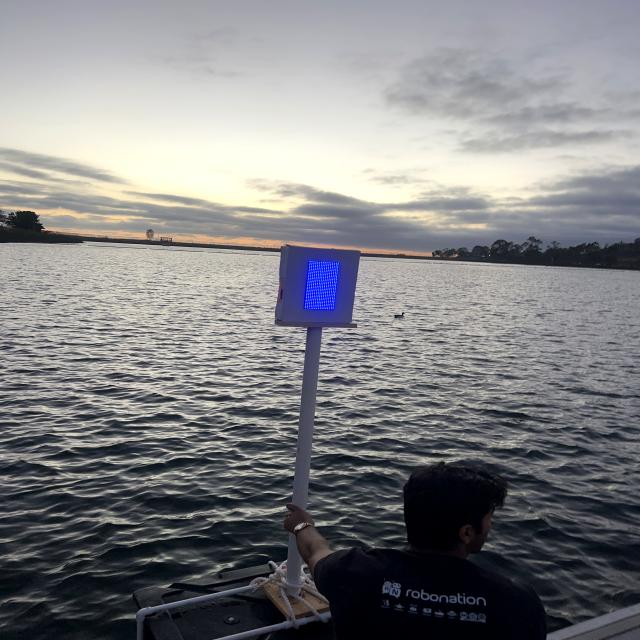led: (295, 246, 349, 325)
